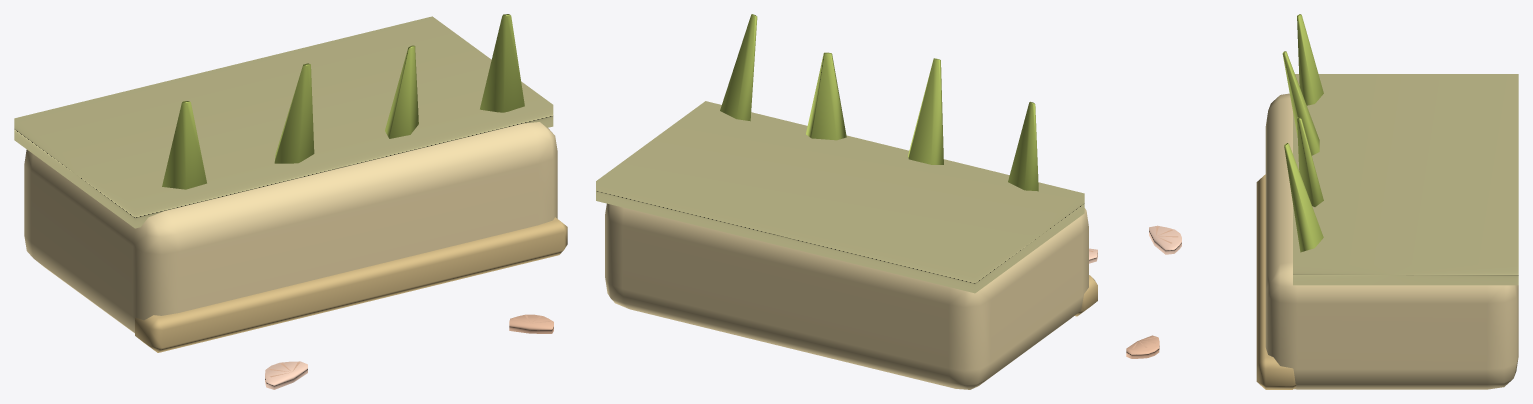
File: ledge_sand.glb
3 views of the same model, side by side, from view 1: azimuth 30°, elevation 25°; view 2: azimuth 150°, elevation 25°; view 3: azimuth 270°, elevation 25° (orthographic). The views are drawn at different scales.
Parts seen in each view (by area): view 1: Ledge; view 2: Ledge; view 3: Ledge.
Boxes of the visible parts, bbox=[...] form: Ledge: bbox=[14, 14, 567, 389]; Ledge: bbox=[596, 14, 1097, 389]; Ledge: bbox=[1126, 14, 1518, 389].
Bounding box in the file's own units: 1 × 0.5638 × 0.8689.
